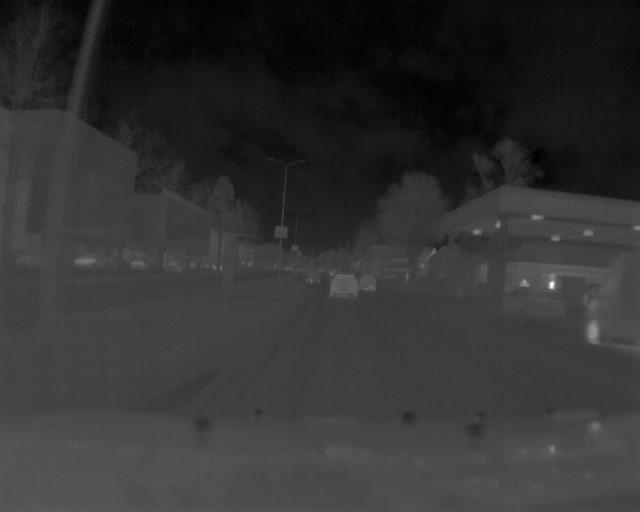car: (581, 252, 640, 346), (497, 285, 567, 328), (330, 272, 358, 298), (130, 255, 153, 272), (302, 266, 321, 285), (360, 272, 377, 292)
